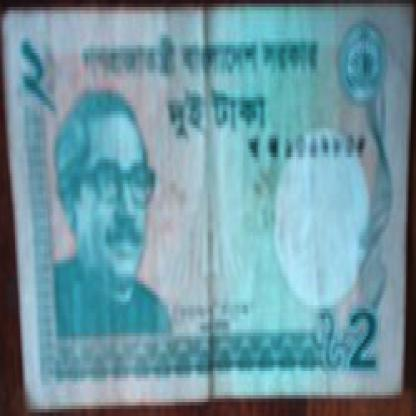two taka: (17, 38, 63, 139), (344, 291, 378, 392)
